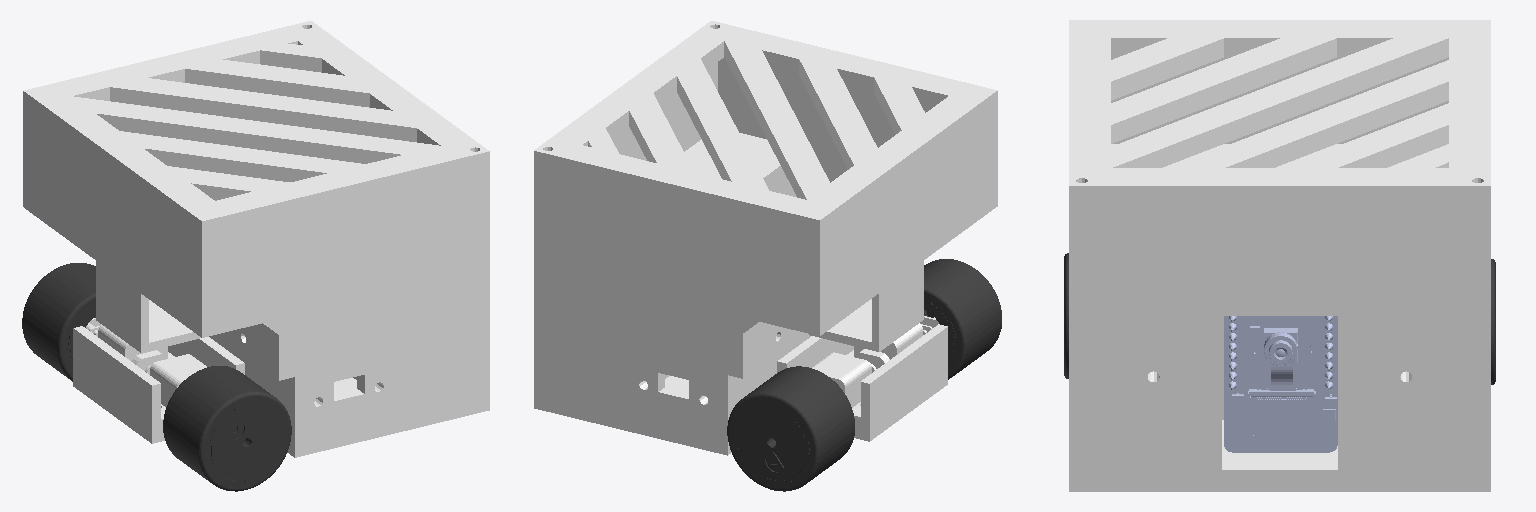
URDF robot description (URDF_Microproyecto_9):
<?xml version="1.0" encoding="utf-8"?>
<!-- This URDF was automatically created by SolidWorks to URDF Exporter! Originally created by Stephen Brawner (brawner@gmail.com) 
     Commit Version: 1.6.0-4-g7f85cfe  Build Version: 1.6.7995.38578
     For more information, please see http://wiki.ros.org/sw_urdf_exporter -->
<robot
  name="URDF_Microproyecto_9">
  <link
    name="base_link">
    <inertial>
      <origin
        xyz="0.00303718710195896 0.000241641070373277 0.0233597079676121"
        rpy="0 0 0" />
      <mass
        value="0.476441238351147" />
      <inertia
        ixx="0.000527064543211955"
        ixy="3.38969605841737E-08"
        ixz="-4.59325964242475E-06"
        iyy="0.000243496413695201"
        iyz="3.12703631411997E-08"
        izz="0.000620291787944453" />
    </inertial>
    <visual>
      <origin
        xyz="0 0 0"
        rpy="0 0 0" />
      <geometry>
        <mesh
          filename="package://URDF_Microproyecto_9/meshes/base_link.STL" />
      </geometry>
      <material
        name="">
        <color
          rgba="1 1 1 1" />
      </material>
    </visual>
    <collision>
      <origin
        xyz="0 0 0"
        rpy="0 0 0" />
      <geometry>
        <mesh
          filename="package://URDF_Microproyecto_9/meshes/base_link.STL" />
      </geometry>
    </collision>
  </link>
  <link
    name="Rueda_izq">
    <inertial>
      <origin
        xyz="7.07458613047919E-05 3.53647017556566E-05 -0.00063149894186489"
        rpy="0 0 0" />
      <mass
        value="0.0157184722885494" />
      <inertia
        ixx="1.6900538447052E-06"
        ixy="2.14652112438886E-10"
        ixz="2.40582412374417E-10"
        iyy="1.69132187199093E-06"
        iyz="1.46085961024242E-09"
        izz="2.1652262699732E-06" />
    </inertial>
    <visual>
      <origin
        xyz="0 0 0"
        rpy="0 0 0" />
      <geometry>
        <mesh
          filename="package://URDF_Microproyecto_9/meshes/Rueda_izq.STL" />
      </geometry>
      <material
        name="">
        <color
          rgba="0.298039215686275 0.298039215686275 0.298039215686275 1" />
      </material>
    </visual>
    <collision>
      <origin
        xyz="0 0 0"
        rpy="0 0 0" />
      <geometry>
        <mesh
          filename="package://URDF_Microproyecto_9/meshes/Rueda_izq.STL" />
      </geometry>
    </collision>
  </link>
  <joint
    name="joint_izq"
    type="continuous">
    <origin
      xyz="-0.033127 0.040636 -0.0020475"
      rpy="1.5708 0 0" />
    <parent
      link="base_link" />
    <child
      link="Rueda_izq" />
    <axis
      xyz="0 0 1" />
  </joint>
  <link
    name="Rueda_der">
    <inertial>
      <origin
        xyz="7.90235797321903E-05 3.30346308194743E-06 0.000631498941864886"
        rpy="0 0 0" />
      <mass
        value="0.0157184722885494" />
      <inertia
        ixx="1.69053286024459E-06"
        ixy="-6.5117157234606E-10"
        ixz="-9.17714123617357E-10"
        iyy="1.69084285645155E-06"
        iyz="1.1618052699549E-09"
        izz="2.1652262699732E-06" />
    </inertial>
    <visual>
      <origin
        xyz="0 0 0"
        rpy="0 0 0" />
      <geometry>
        <mesh
          filename="package://URDF_Microproyecto_9/meshes/Rueda_der.STL" />
      </geometry>
      <material
        name="">
        <color
          rgba="0.298039215686275 0.298039215686275 0.298039215686275 1" />
      </material>
    </visual>
    <collision>
      <origin
        xyz="0 0 0"
        rpy="0 0 0" />
      <geometry>
        <mesh
          filename="package://URDF_Microproyecto_9/meshes/Rueda_der.STL" />
      </geometry>
    </collision>
  </link>
  <joint
    name="joint_der"
    type="continuous">
    <origin
      xyz="-0.034252 -0.040164 -0.0010202"
      rpy="1.5708 0 0" />
    <parent
      link="base_link" />
    <child
      link="Rueda_der" />
    <axis
      xyz="0 0 -1" />
  </joint>
  <link
    name="Cam_link">
    <inertial>
      <origin
        xyz="-0.00761657670891421 -0.00747059469769067 1.39730355321818E-05"
        rpy="0 0 0" />
      <mass
        value="0.00241389293196676" />
      <inertia
        ixx="2.20027071419733E-07"
        ixy="-7.73419619969269E-12"
        ixz="-6.16071045877555E-11"
        iyy="7.82512589004426E-08"
        iyz="6.02574141068783E-10"
        izz="1.45696619419382E-07" />
    </inertial>
    <visual>
      <origin
        xyz="0 0 0"
        rpy="0 0 0" />
      <geometry>
        <mesh
          filename="package://URDF_Microproyecto_9/meshes/Cam_link.STL" />
      </geometry>
      <material
        name="">
        <color
          rgba="0.792156862745098 0.819607843137255 0.933333333333333 1" />
      </material>
    </visual>
    <collision>
      <origin
        xyz="0 0 0"
        rpy="0 0 0" />
      <geometry>
        <mesh
          filename="package://URDF_Microproyecto_9/meshes/Cam_link.STL" />
      </geometry>
    </collision>
  </link>
  <joint
    name="joint_cam"
    type="fixed">
    <origin
      xyz="0.04341 0.00043637 0.0255"
      rpy="1.5708 0 0" />
    <parent
      link="base_link" />
    <child
      link="Cam_link" />
    <axis
      xyz="0 0 0" />
  </joint>
</robot>

--- Facts derived from the render (not from the file) ---
The picture shows the robot from 3 angles, left to right: view 1: azimuth 30°, elevation 25°; view 2: azimuth 150°, elevation 25°; view 3: azimuth 270°, elevation 25°; orthographic projection.
Robot: URDF_Microproyecto_9 — 4 links, 3 joints (2 continuous, 1 fixed); root link base_link; default pose: every joint at zero.
Visible links, largest first — view 1: base_link, Rueda_der, Rueda_izq; view 2: base_link, Rueda_izq, Rueda_der; view 3: base_link, Cam_link, Rueda_izq, Rueda_der.
Boxes of the visible links, <box> form: base_link: <box>23,21,489,457</box>; Rueda_der: <box>163,366,291,491</box>; Rueda_izq: <box>22,263,95,381</box>; base_link: <box>534,21,997,455</box>; Rueda_izq: <box>727,366,854,491</box>; Rueda_der: <box>924,259,1001,379</box>; base_link: <box>1069,20,1490,491</box>; Cam_link: <box>1224,316,1337,452</box>; Rueda_izq: <box>1491,259,1495,384</box>; Rueda_der: <box>1064,253,1068,378</box>.
Bounding box of the posed robot: 0.0942 × 0.1024 × 0.087 m (x, y, z).
Meshes: 4 distinct files referenced, 4 mesh visuals loaded (4 binary STL).
